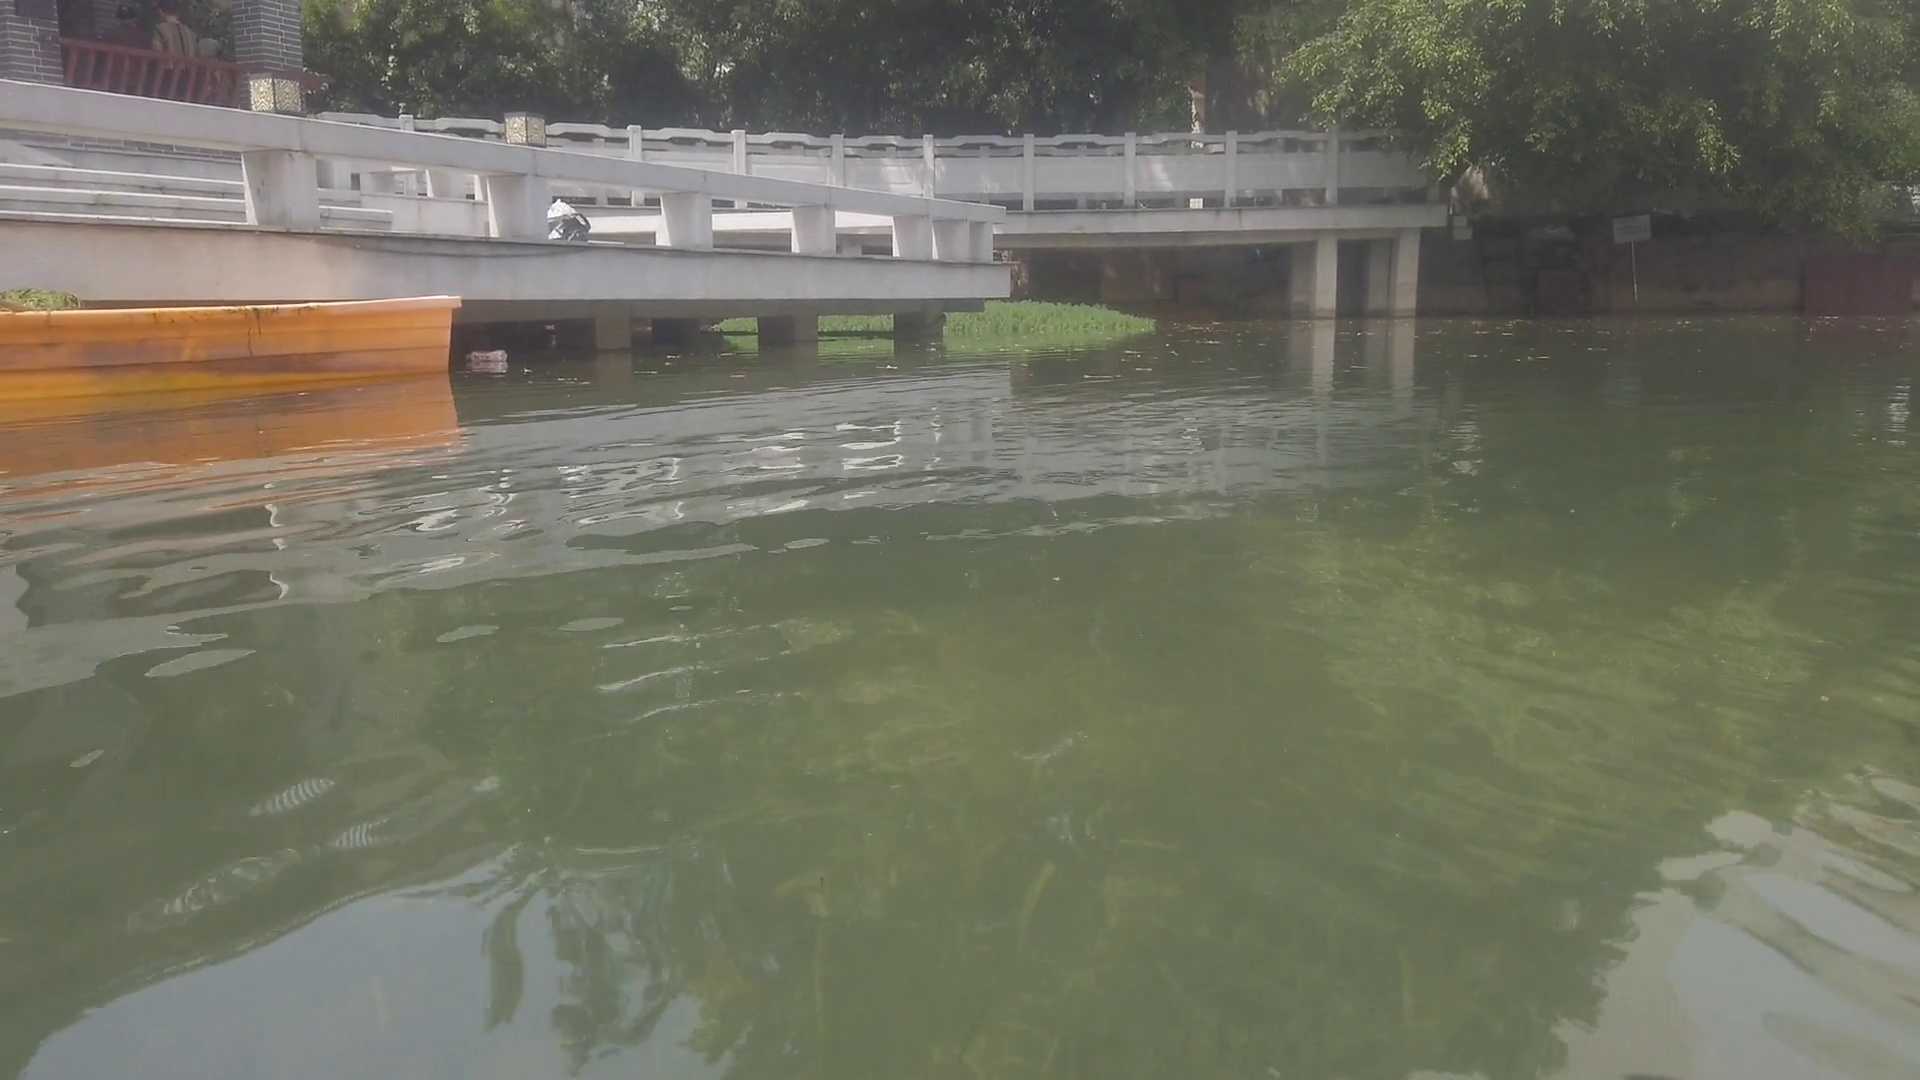bottle: (463, 345, 512, 360)
